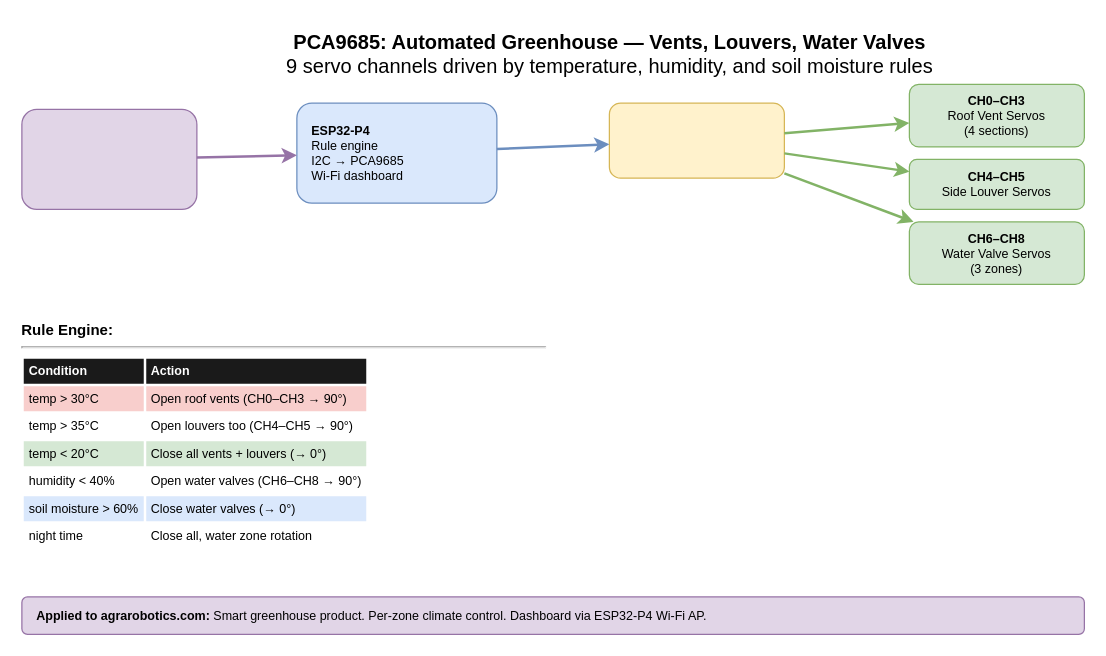
The diagram is 1106 pixels wide and 656 high, and some of its shapes have lost their labels. Each missing label, with the centre of its shape:
"PCA9685 (0x40) 9 channels active" goes at (696,140).
"Sensors: DHT22 (temp/humid) Soil moisture × 3 Light sensor" goes at (109,158).
